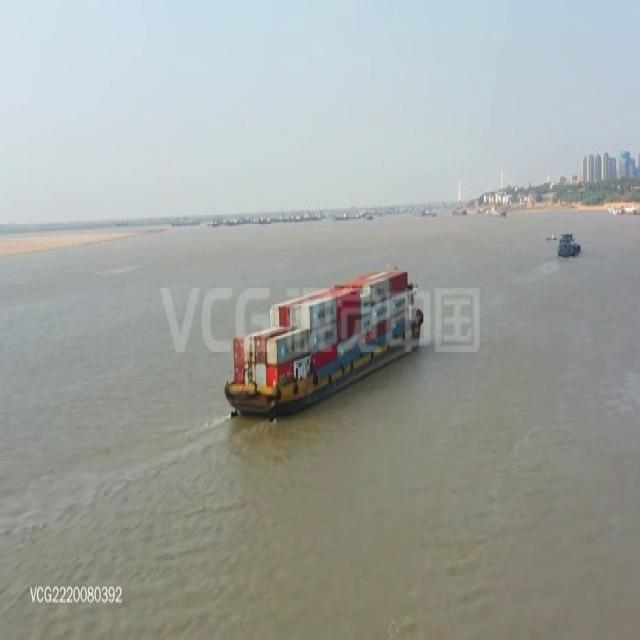cargoship: (222, 261, 426, 421)
fishing boat: (555, 231, 584, 260)
